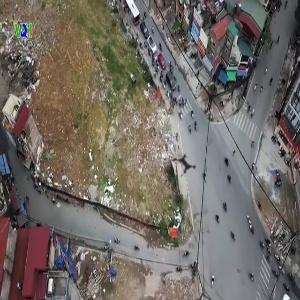drone: (158, 139, 211, 192)
